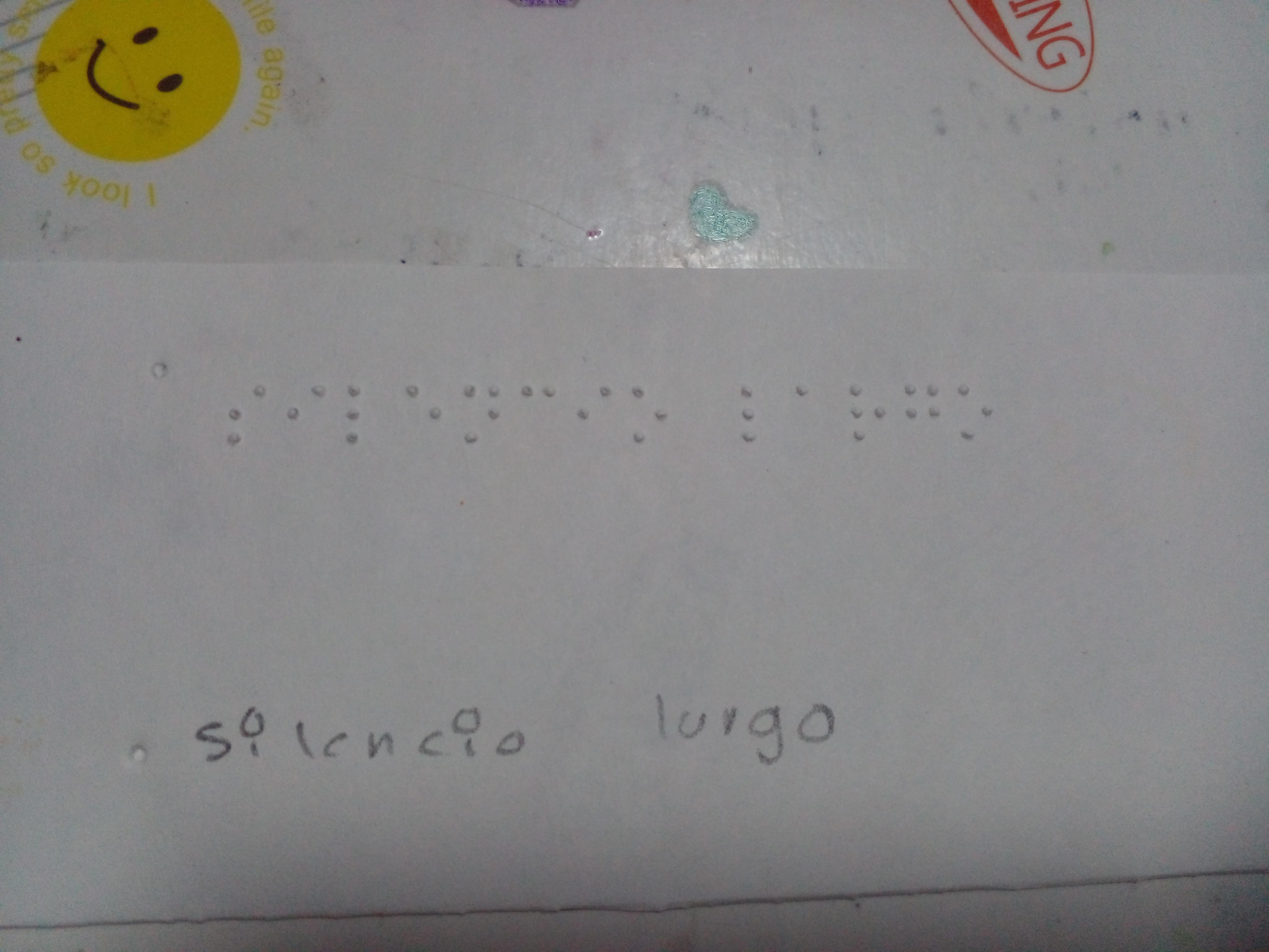a: (782, 373, 819, 417)
c: (513, 380, 561, 421)
e: (393, 370, 449, 442)
g: (895, 375, 946, 437)
i: (283, 377, 332, 443), (569, 381, 623, 425)
l: (730, 373, 767, 454), (342, 381, 370, 456)
n: (457, 375, 503, 449)
o: (946, 372, 999, 449), (624, 381, 677, 452)
r: (843, 370, 891, 454)
s: (208, 375, 271, 449)
